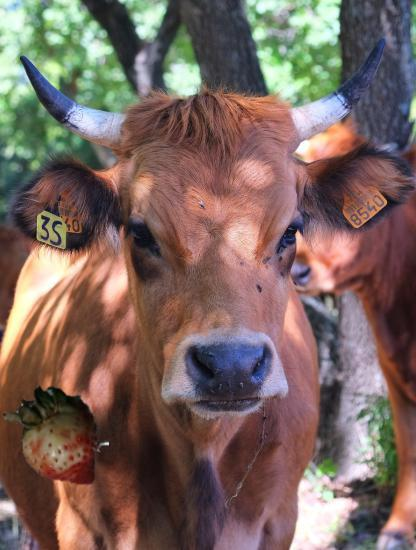Strawberry: (3, 381, 109, 487)
